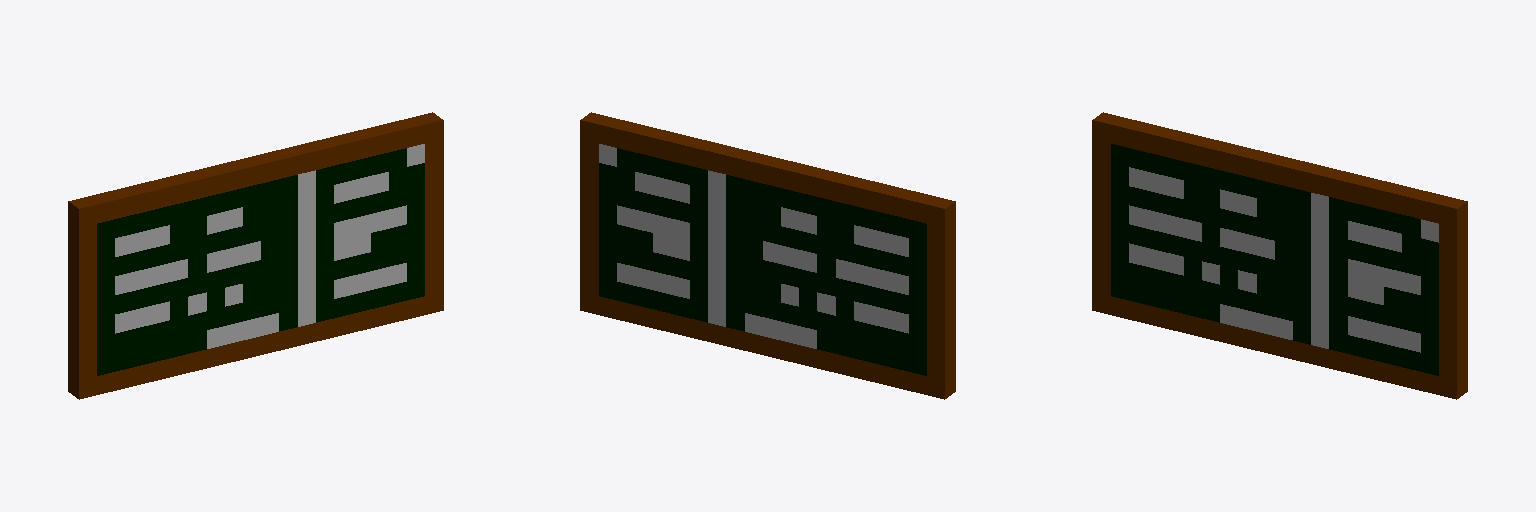
3 renders of one model, left to right at view 1: azimuth 30°, elevation 25°; view 2: azimuth 150°, elevation 25°; view 3: azimuth 330°, elevation 25°, orthographic.
Parts seen in each view (by area): view 1: GreenBoard_34; view 2: GreenBoard_34; view 3: GreenBoard_34.
Boxes of the visible parts, x1,y1,x2,y2 form: GreenBoard_34: [68, 112, 443, 399]; GreenBoard_34: [580, 112, 955, 399]; GreenBoard_34: [1092, 112, 1467, 399].
Size of the model in its own units: 2 by 1 by 0.1.
Materials: 1 (1 with a texture image).